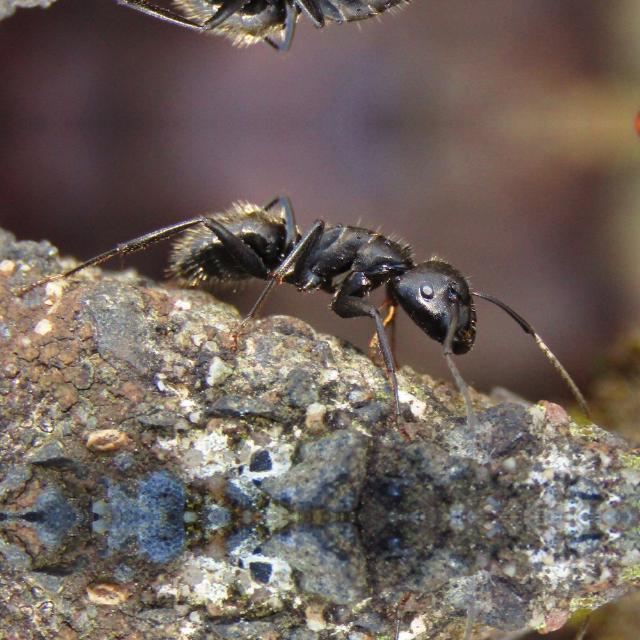Camponotus: (117, 161, 539, 393), (117, 0, 539, 84)
